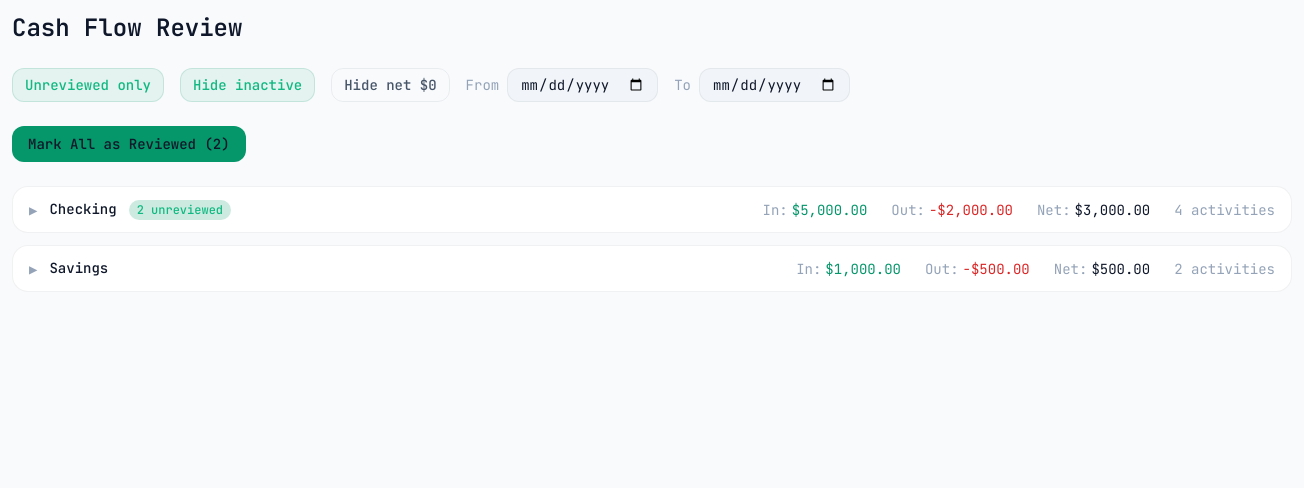
Test: CashFlowReviewPage › clicking an amount cell opens an input for that cell only
The width and height of the screenshot is (1304, 488).
Click the button with test id "account-row-acc-1".
click(83, 209)  # box [13,187,1291,232]
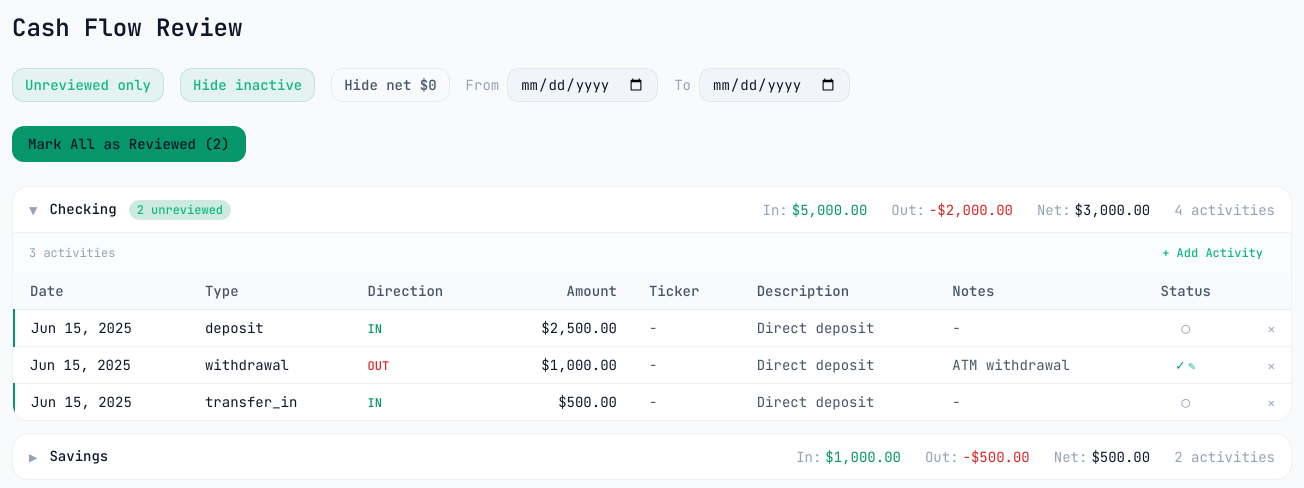
Expected: the row with test id "activity-row-act-1" is shown, [14,310,1291,346]
Click the text with test id "amount-cell-act-1".
click(579, 328)  # box [537,319,621,337]
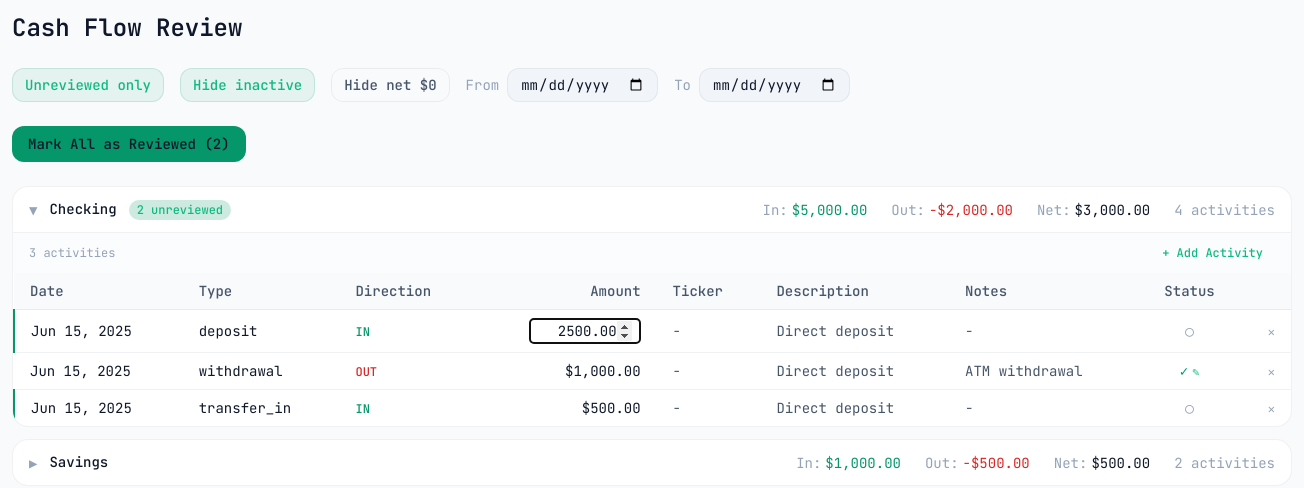
Expected: the number field with test id "edit-amount" is shown, [529,318,641,344]
